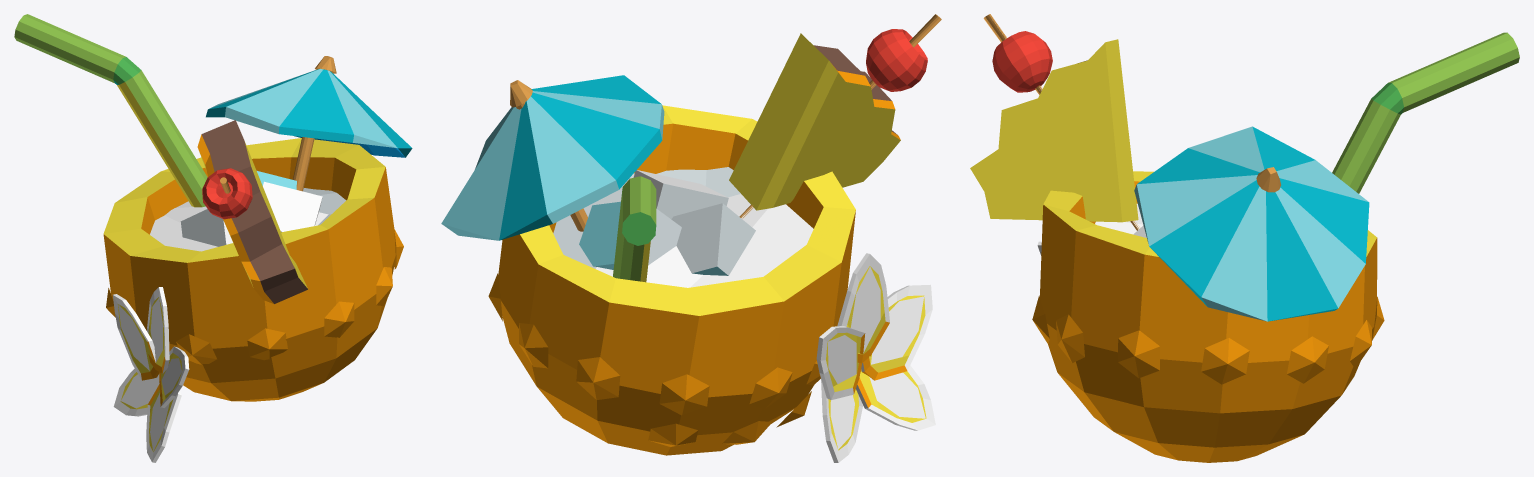
File: machupicchu.glb
3 views of the same model, side by side, from view 1: azimuth 30°, elevation 25°; view 2: azimuth 150°, elevation 25°; view 3: azimuth 270°, elevation 25° (orthographic). The views are drawn at different scales.
Parts seen in each view (by area): view 1: group610123433, group1594419875, group965064021, group1666630788, group1768649750, group304415535, group1542762087, group960051168, group531860328, group1214511065, group813527166, group773467201 (+6 smaller); view 2: group610123433, group1594419875, group1666630788, group1768649750, group773467201, group1806184742, group965064021, group531860328, group1214511065, group112892431, group960051168, group304415535 (+8 smaller); view 3: group610123433, group1594419875, group1666630788, group965064021, group960051168, group1362350893, group1073348436, group370177266, group1921898334, group1206343599.
Part boxes in pixels (x1,y1,x2,y2): group610123433: (103,138,395,401); group1594419875: (206,68,412,157); group965064021: (14,14,207,207); group1666630788: (197,120,308,303); group1768649750: (150,188,345,251); group304415535: (112,294,159,380); group1542762087: (263,181,322,232); group960051168: (202,168,252,219); group531860328: (146,384,181,462); group1214511065: (147,287,169,373); group813527166: (113,368,159,416); group773467201: (180,209,232,246); group610123433: (498,105,855,455); group1594419875: (441,75,664,240); group1666630788: (729,33,900,210); group1768649750: (553,167,813,287); group773467201: (671,203,755,275); group1806184742: (861,284,932,380); group965064021: (613,176,656,282); group531860328: (856,365,935,430); group1214511065: (837,253,889,363); group112892431: (579,201,681,269); group960051168: (866,29,927,91); group304415535: (816,326,865,399); group610123433: (1040,171,1377,462); group1594419875: (1134,126,1369,321); group1666630788: (970,39,1138,222); group965064021: (1332,32,1519,193); group960051168: (992,31,1052,92); group1362350893: (1201,338,1249,384); group1073348436: (1118,330,1159,378); group370177266: (1287,336,1328,383); group1921898334: (1056,314,1084,362); group1206343599: (1350,320,1371,368).
Size of the model in its own units: 0.4817 by 0.4599 by 0.6216.
